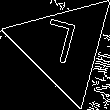L_S: (42, 18, 85, 75)
